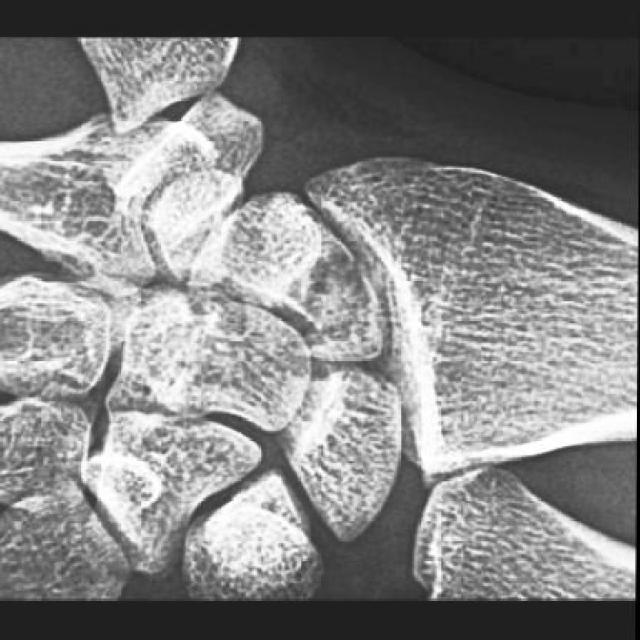Fracture: (272, 217, 390, 370)
